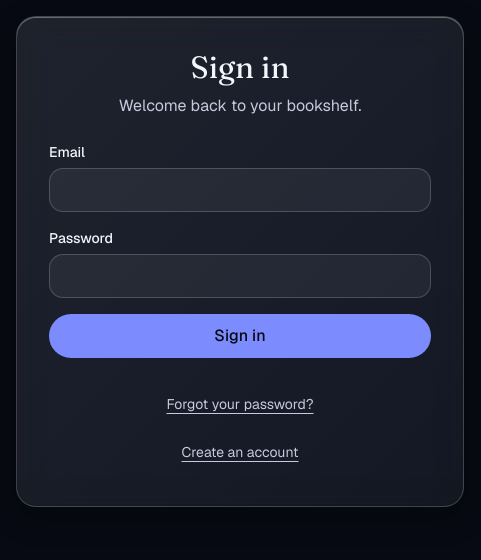
Test: AuthForm › shows a general error when the network fails
The image size is (481, 560).
Type "reader@example.com" into the field labelled "Email" at (240, 190), box [49, 168, 431, 212]
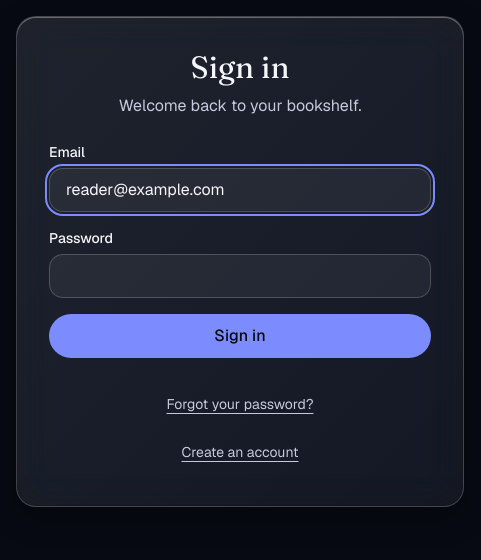
Type "a-good-password" into the password field labelled "Password" at (240, 276), box [49, 254, 431, 298]
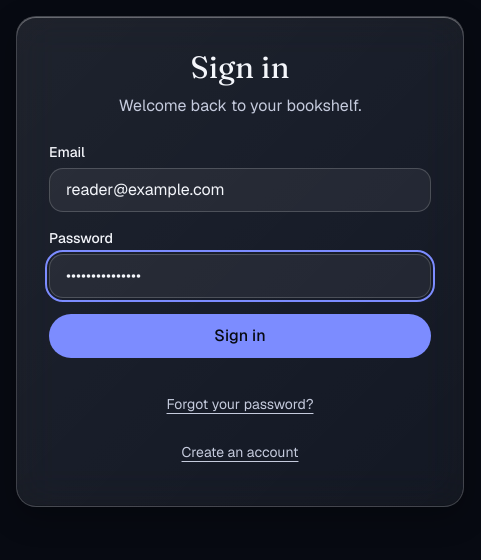
Click the button "Sign in" at (240, 336), box [49, 314, 431, 358]
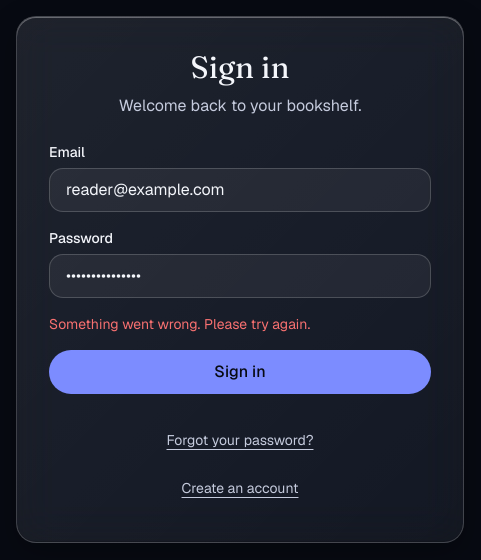
Check: the message reads "Something went wrong. Please try again.", box [49, 315, 310, 333]
